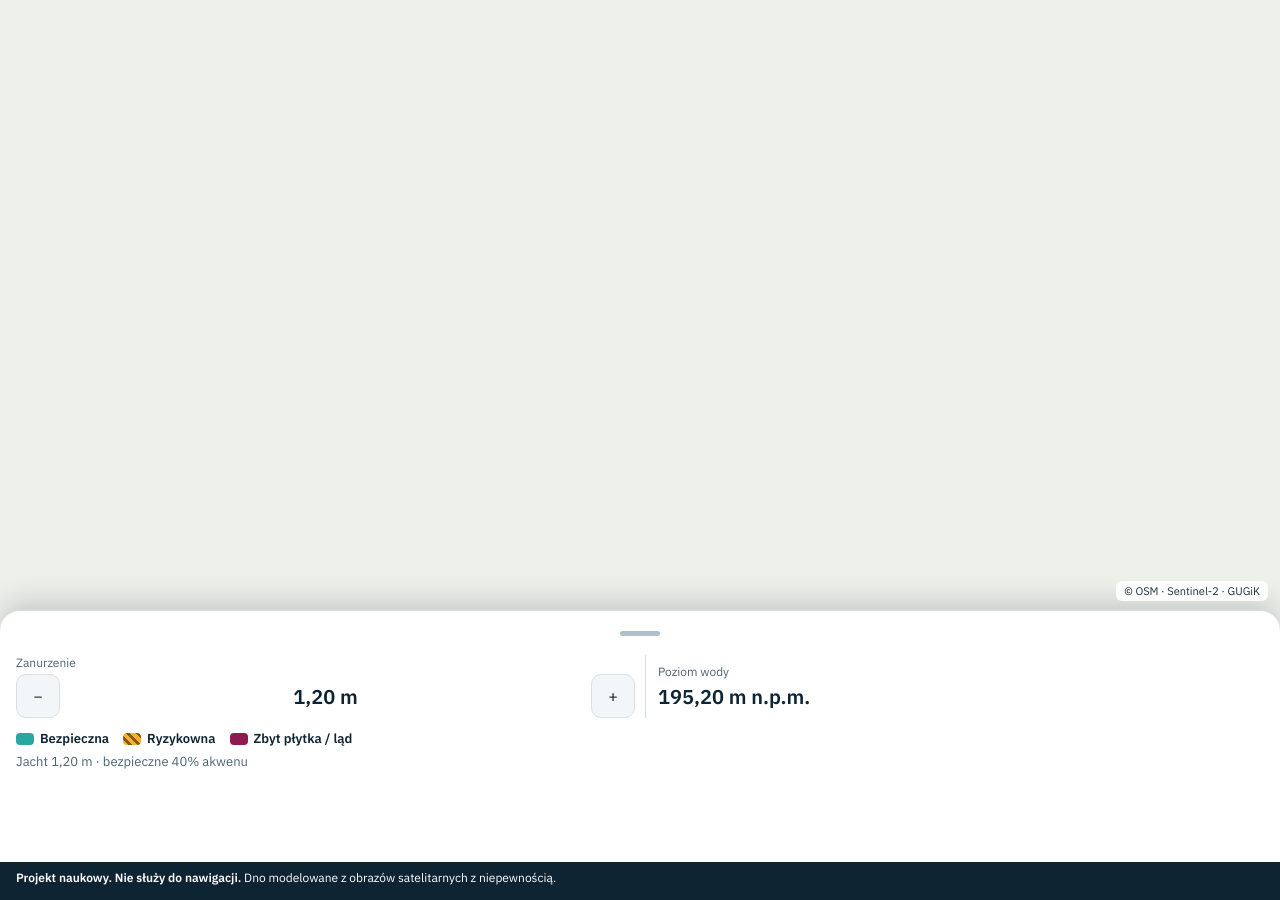
Test: collapsed mini legend › shows zone names only; descriptions appear in the expanded legend
The image size is (1280, 900).
Expected: the text "Ryzykowna" is shown, [147,730,216,747]
Expected: the element "Legenda" does not show ":"
Click the button "Poziom wody 195,20 m n.p.m.": (694, 671) [645,655,1264,718]
(page scrolled)
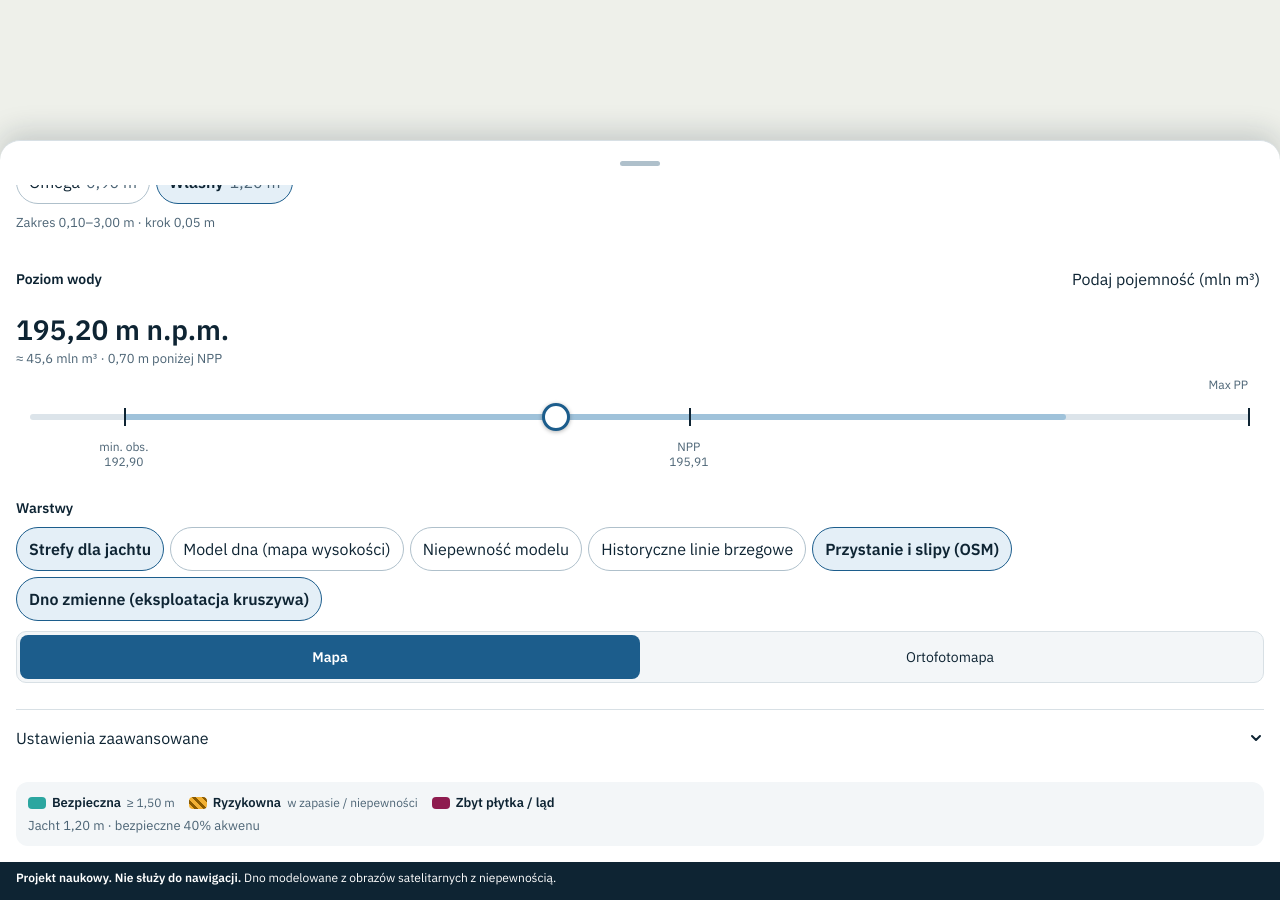
Now the text "w zapasie / niepewności" is shown, box [287,795,418,810]
